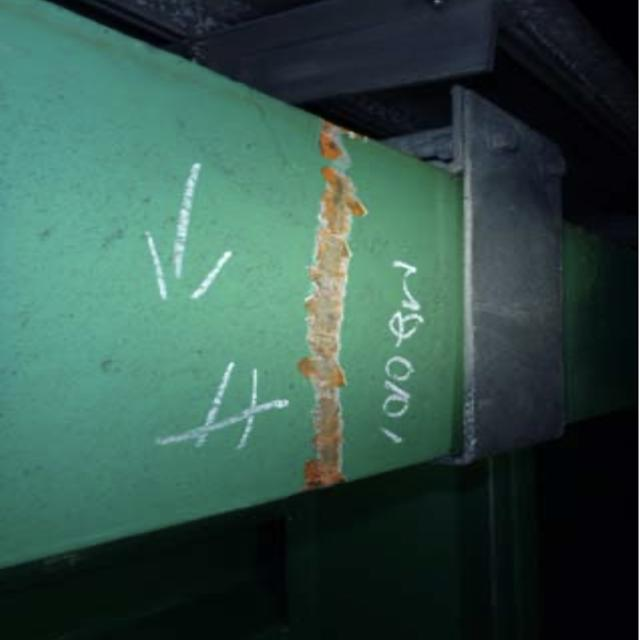corrosion: (303, 117, 358, 504)
